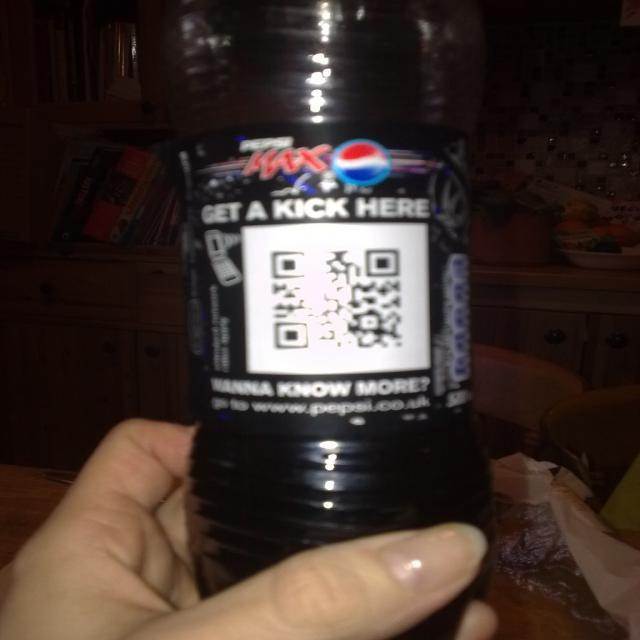qrcode: (272, 250, 403, 350)
